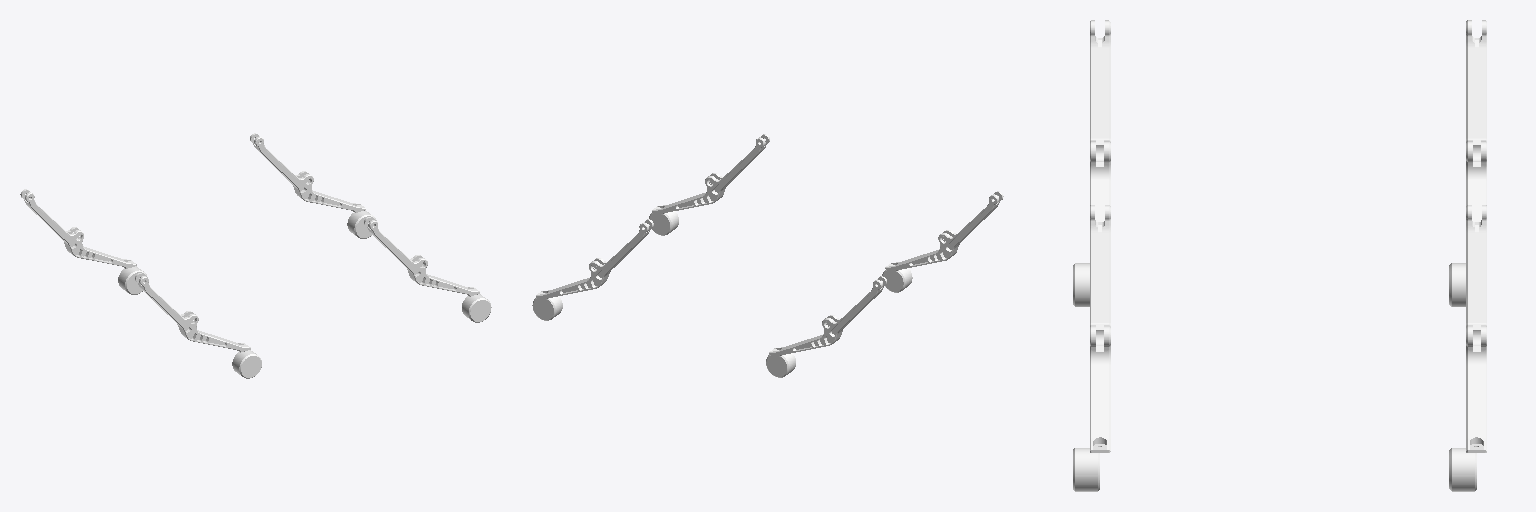
robot.urdf — spacebok:
<robot name="spacebok">
    <!-- Define materials for Rviz -->
    <material name="blue">
        <color rgba="0 0 0.8 1"/>
    </material>
    <material name="black">
        <color rgba="0 0 0 1"/>
    </material>
    <material name="white">
        <color rgba="1 1 1 1"/>
    </material>
    <material name="messing">
        <color rgba="0.8 0.5 0.2 1"/>
    </material>
	<link name="base_link">
        <visual>
            <geometry>
                <mesh filename="../meshes/body/body_edited_2.dae"
                      scale="0.001 0.001 0.001"/>
            </geometry>
            <material name="black"/>
            <origin rpy="0 0 0" xyz="0 0 0"/>
        </visual>
        <collision>
            <geometry>
                <box size="0.6 0.315 0.23"/>
            </geometry>
            <material name="black"/>
            <origin rpy="0 0 0" xyz="0 0 0.035"/>
        </collision>
    </link>
    <!-- Fixed joint to add dummy inertia link -->
    <joint name="base_to_base_inertia" type="fixed">
        <parent link="base_link"/>
        <child link="base_inertia"/>
        <origin rpy="0 0 0" xyz="0 0 0"/>
    </joint>
    <!-- Dummy inertia link, because KDL cannot have inertia on the base link -->
    <link name="base_inertia">
        <inertial>
            <mass value="18"/>
            <inertia ixx="0.3484" ixy="0.0" ixz="0.0" iyy="0.4166" iyz="0" izz="0.465"/>
        </inertial>
    </link>
    <link name="upper_leg_long_front_left">
        <visual>
            <geometry>
                <mesh filename="../meshes/leg/upper_leg_long_color.dae"
                      scale="0.001 0.001 0.001"/>
            </geometry>
            <material name="white"/>
            <origin rpy="0 0 0" xyz="0 0 0"/>
        </visual>
        <!--<collision>-->
            <!--<geometry>-->
                <!--<box size="0.25 0.02 0.03"/>-->
            <!--</geometry>-->
            <!--<origin rpy="0 0 0" xyz="-0.125 0 0"/>-->
        <!--</collision>-->
        <inertial>
                    <origin rpy="0 0 0" xyz="-0.082496 -0.025627 0.0"/>
                    <mass value="0.375"/>
                    <inertia ixx="0.00013376" iyy="0.003551" izz="0.003609" ixy="0.00014207" ixz="-6.9503185e-05" iyz="2.2789778e-05" />
                  </inertial>
                
    </link>
    <joint name="front_left_joint_1" type="revolute">
        <axis xyz="0 1 0"/>
        <limit effort="30" lower="-3.14" upper="3.14" velocity="1000"/>
        <dynamics damping="0.01" friction="0.45"/>
        <parent link="base_link"/>
        <child link="upper_leg_long_front_left"/>
        <origin rpy="0 -0.785398163397 0" xyz="0.2 0.1725 0"/>
    </joint>
    <link name="lower_leg_long_front_left">
        <visual>
            <material name="white"/>
            <geometry>
                <mesh filename="../meshes/leg/lower_leg_long_3.dae"
                     />
            </geometry>
            <origin rpy="1.5707963 3.141592 0" xyz="0 0.00 0"/>
        </visual>
        <collision>
            <geometry>
                <box size="0.225 0.03 0.01"/>
            </geometry>
            <origin rpy="0 0.03 0" xyz="-0.11 0 0.003"/>
        </collision>
        <inertial>
                    <origin rpy="0 0 0" xyz="-0.12084 -0.006102 0.0"/>
                    <mass value="0.23"/>
                    <inertia ixx="4.201e-05" iyy="0.0006585" izz="0.0006709" ixy="-1.6589e-05" ixz="1.8269915e-05" iyz="-4.52203e-07" />
                  </inertial>
                
    </link>
    <joint name="front_left_joint_2" type="revolute">
        <axis xyz="0 1 0"/>
        <limit effort="30" lower="-3.14" upper="3.14" velocity="1000"/>
        <dynamics damping="0.01" friction="0.45"/>
        <parent link="upper_leg_long_front_left"/>
        <child link="lower_leg_long_front_left"/>
        <origin rpy="0 -1.57079632679 0" xyz="-0.25 0 0"/>
    </joint>
    <link name="foot_front_left">
        <visual>
            <material name="white"/>
            <geometry>
                <mesh filename="../meshes/leg/foot_cylinder.dae"
                      />
            </geometry>
            <origin rpy="1.5707963 0 0" xyz="0 0.0 0"/>
        </visual>
        <collision>
            <geometry>
                <sphere radius="0.02"/>
            </geometry>
            <origin rpy="0 0 0" xyz="0 0 0"/>
        </collision>
        <inertial>
                    <origin rpy="0 0 0" xyz="0.0 0.0 0.0"/>
                    <mass value="0.05"/>
                    <inertia ixx="2.904e-06" iyy="2.904e-06" izz="3.611e-06" ixy="0.0" ixz="0.0" iyz="0.0" />
                  </inertial>
                
    </link>
    <joint name="front_left_joint_3" type="fixed">
        <parent link="lower_leg_long_front_left"/>
        <child link="foot_front_left"/>
        <origin rpy="0 0 0" xyz="-0.25 0 -0.0"/>
    </joint>


    <link name="upper_leg_long_front_right">
        <visual>
            <geometry>
                <mesh filename="../meshes/leg/upper_leg_long_color.dae"
                      scale="0.001 0.001 0.001"/>
            </geometry>
            <material name="white"/>
            <origin rpy="0 0 0" xyz="0 0 0"/>
        </visual>
        <!--<collision>-->
            <!--<geometry>-->
                <!--<box size="0.25 0.02 0.03"/>-->
            <!--</geometry>-->
            <!--<origin rpy="0 0 0" xyz="-0.125 0 0"/>-->
        <!--</collision>-->
        <inertial>
                    <origin rpy="0 0 0" xyz="-0.082496 -0.025627 0.0"/>
                    <mass value="0.375"/>
                    <inertia ixx="0.00013376" iyy="0.003551" izz="0.003609" ixy="0.00014207" ixz="-6.9503185e-05" iyz="2.2789778e-05" />
                  </inertial>
                
    </link>
    <joint name="front_right_joint_1" type="revolute">
        <axis xyz="0 1 0"/>
        <limit effort="30" lower="-3.14" upper="3.14" velocity="1000"/>
        <dynamics damping="0.01" friction="0.45"/>
        <parent link="base_link"/>
        <child link="upper_leg_long_front_right"/>
        <origin rpy="0 -0.785398163397 0" xyz="0.2 -0.1725 0"/>
    </joint>
    <link name="lower_leg_long_front_right">
        <visual>
            <material name="white"/>
            <geometry>
                <mesh filename="../meshes/leg/lower_leg_long_3.dae"
                     />
            </geometry>
            <origin rpy="1.5707963 3.141592 0" xyz="0 0.00 0"/>
        </visual>
        <collision>
            <geometry>
                <box size="0.225 0.03 0.01"/>
            </geometry>
            <origin rpy="0 0.03 0" xyz="-0.11 0 0.003"/>
        </collision>
        <inertial>
                    <origin rpy="0 0 0" xyz="-0.12084 -0.006102 0.0"/>
                    <mass value="0.23"/>
                    <inertia ixx="4.201e-05" iyy="0.0006585" izz="0.0006709" ixy="-1.6589e-05" ixz="1.8269915e-05" iyz="-4.52203e-07" />
                  </inertial>
                
    </link>
    <joint name="front_right_joint_2" type="revolute">
        <axis xyz="0 1 0"/>
        <limit effort="30" lower="-3.14" upper="3.14" velocity="1000"/>
        <dynamics damping="0.01" friction="0.45"/>
        <parent link="upper_leg_long_front_right"/>
        <child link="lower_leg_long_front_right"/>
        <origin rpy="0 -1.57079632679 0" xyz="-0.25 0 0"/>
    </joint>
    <link name="foot_front_right">
        <visual>
            <material name="white"/>
            <geometry>
                <mesh filename="../meshes/leg/foot_cylinder.dae"
                      />
            </geometry>
            <origin rpy="1.5707963 0 0" xyz="0 0.0 0"/>
        </visual>
        <collision>
            <geometry>
                <sphere radius="0.02"/>
            </geometry>
            <origin rpy="0 0 0" xyz="0 0 0"/>
        </collision>
        <inertial>
                    <origin rpy="0 0 0" xyz="0.0 0.0 0.0"/>
                    <mass value="0.05"/>
                    <inertia ixx="2.904e-06" iyy="2.904e-06" izz="3.611e-06" ixy="0.0" ixz="0.0" iyz="0.0" />
                  </inertial>
                
    </link>
    <joint name="front_right_joint_3" type="fixed">
        <parent link="lower_leg_long_front_right"/>
        <child link="foot_front_right"/>
        <origin rpy="0 0 0" xyz="-0.25 0 -0.0"/>
    </joint>


    <link name="upper_leg_long_hind_left">
        <visual>
            <geometry>
                <mesh filename="../meshes/leg/upper_leg_long_color.dae"
                      scale="0.001 0.001 0.001"/>
            </geometry>
            <material name="white"/>
            <origin rpy="0 0 0" xyz="0 0 0"/>
        </visual>
        <!--<collision>-->
            <!--<geometry>-->
                <!--<box size="0.25 0.02 0.03"/>-->
            <!--</geometry>-->
            <!--<origin rpy="0 0 0" xyz="-0.125 0 0"/>-->
        <!--</collision>-->
        <inertial>
                    <origin rpy="0 0 0" xyz="-0.082496 -0.025627 0.0"/>
                    <mass value="0.375"/>
                    <inertia ixx="0.00013376" iyy="0.003551" izz="0.003609" ixy="0.00014207" ixz="-6.9503185e-05" iyz="2.2789778e-05" />
                  </inertial>
                
    </link>
    <joint name="hind_left_joint_1" type="revolute">
        <axis xyz="0 1 0"/>
        <limit effort="30" lower="-3.14" upper="3.14" velocity="1000"/>
        <dynamics damping="0.01" friction="0.45"/>
        <parent link="base_link"/>
        <child link="upper_leg_long_hind_left"/>
        <origin rpy="0 -0.785398163397 0" xyz="-0.2 0.1725 0"/>
    </joint>
    <link name="lower_leg_long_hind_left">
        <visual>
            <material name="white"/>
            <geometry>
                <mesh filename="../meshes/leg/lower_leg_long_3.dae"
                     />
            </geometry>
            <origin rpy="1.5707963 3.141592 0" xyz="0 0.00 0"/>
        </visual>
        <collision>
            <geometry>
                <box size="0.225 0.03 0.01"/>
            </geometry>
            <origin rpy="0 0.03 0" xyz="-0.11 0 0.003"/>
        </collision>
        <inertial>
                    <origin rpy="0 0 0" xyz="-0.12084 -0.006102 0.0"/>
                    <mass value="0.23"/>
                    <inertia ixx="4.201e-05" iyy="0.0006585" izz="0.0006709" ixy="-1.6589e-05" ixz="1.8269915e-05" iyz="-4.52203e-07" />
                  </inertial>
                
    </link>
    <joint name="hind_left_joint_2" type="revolute">
        <axis xyz="0 1 0"/>
        <limit effort="30" lower="-3.14" upper="3.14" velocity="1000"/>
        <dynamics damping="0.01" friction="0.45"/>
        <parent link="upper_leg_long_hind_left"/>
        <child link="lower_leg_long_hind_left"/>
        <origin rpy="0 -1.57079632679 0" xyz="-0.25 0 0"/>
    </joint>
    <link name="foot_hind_left">
        <visual>
            <material name="white"/>
            <geometry>
                <mesh filename="../meshes/leg/foot_cylinder.dae"
                      />
            </geometry>
            <origin rpy="1.5707963 0 0" xyz="0 0.0 0"/>
        </visual>
        <collision>
            <geometry>
                <sphere radius="0.02"/>
            </geometry>
            <origin rpy="0 0 0" xyz="0 0 0"/>
        </collision>
        <inertial>
                    <origin rpy="0 0 0" xyz="0.0 0.0 0.0"/>
                    <mass value="0.05"/>
                    <inertia ixx="2.904e-06" iyy="2.904e-06" izz="3.611e-06" ixy="0.0" ixz="0.0" iyz="0.0" />
                  </inertial>
                
    </link>
    <joint name="hind_left_joint_3" type="fixed">
        <parent link="lower_leg_long_hind_left"/>
        <child link="foot_hind_left"/>
        <origin rpy="0 0 0" xyz="-0.25 0 -0.0"/>
    </joint>


    <link name="upper_leg_long_hind_right">
        <visual>
            <geometry>
                <mesh filename="../meshes/leg/upper_leg_long_color.dae"
                      scale="0.001 0.001 0.001"/>
            </geometry>
            <material name="white"/>
            <origin rpy="0 0 0" xyz="0 0 0"/>
        </visual>
        <!--<collision>-->
            <!--<geometry>-->
                <!--<box size="0.25 0.02 0.03"/>-->
            <!--</geometry>-->
            <!--<origin rpy="0 0 0" xyz="-0.125 0 0"/>-->
        <!--</collision>-->
        <inertial>
                    <origin rpy="0 0 0" xyz="-0.082496 -0.025627 0.0"/>
                    <mass value="0.375"/>
                    <inertia ixx="0.00013376" iyy="0.003551" izz="0.003609" ixy="0.00014207" ixz="-6.9503185e-05" iyz="2.2789778e-05" />
                  </inertial>
                
    </link>
    <joint name="hind_right_joint_1" type="revolute">
        <axis xyz="0 1 0"/>
        <limit effort="30" lower="-3.14" upper="3.14" velocity="1000"/>
        <dynamics damping="0.01" friction="0.45"/>
        <parent link="base_link"/>
        <child link="upper_leg_long_hind_right"/>
        <origin rpy="0 -0.785398163397 0" xyz="-0.2 -0.1725 0"/>
    </joint>
    <link name="lower_leg_long_hind_right">
        <visual>
            <material name="white"/>
            <geometry>
                <mesh filename="../meshes/leg/lower_leg_long_3.dae"
                     />
            </geometry>
            <origin rpy="1.5707963 3.141592 0" xyz="0 0.00 0"/>
        </visual>
        <collision>
            <geometry>
                <box size="0.225 0.03 0.01"/>
            </geometry>
            <origin rpy="0 0.03 0" xyz="-0.11 0 0.003"/>
        </collision>
        <inertial>
                    <origin rpy="0 0 0" xyz="-0.12084 -0.006102 0.0"/>
                    <mass value="0.23"/>
                    <inertia ixx="4.201e-05" iyy="0.0006585" izz="0.0006709" ixy="-1.6589e-05" ixz="1.8269915e-05" iyz="-4.52203e-07" />
                  </inertial>
                
    </link>
    <joint name="hind_right_joint_2" type="revolute">
        <axis xyz="0 1 0"/>
        <limit effort="30" lower="-3.14" upper="3.14" velocity="1000"/>
        <dynamics damping="0.01" friction="0.45"/>
        <parent link="upper_leg_long_hind_right"/>
        <child link="lower_leg_long_hind_right"/>
        <origin rpy="0 -1.57079632679 0" xyz="-0.25 0 0"/>
    </joint>
    <link name="foot_hind_right">
        <visual>
            <material name="white"/>
            <geometry>
                <mesh filename="../meshes/leg/foot_cylinder.dae"
                      />
            </geometry>
            <origin rpy="1.5707963 0 0" xyz="0 0.0 0"/>
        </visual>
        <collision>
            <geometry>
                <sphere radius="0.02"/>
            </geometry>
            <origin rpy="0 0 0" xyz="0 0 0"/>
        </collision>
        <inertial>
                    <origin rpy="0 0 0" xyz="0.0 0.0 0.0"/>
                    <mass value="0.05"/>
                    <inertia ixx="2.904e-06" iyy="2.904e-06" izz="3.611e-06" ixy="0.0" ixz="0.0" iyz="0.0" />
                  </inertial>
                
    </link>
    <joint name="hind_right_joint_3" type="fixed">
        <parent link="lower_leg_long_hind_right"/>
        <child link="foot_hind_right"/>
        <origin rpy="0 0 0" xyz="-0.25 0 -0.0"/>
    </joint>


</robot>

--- Facts derived from the render (not from the file) ---
The picture shows the robot from 3 angles, left to right: view 1: azimuth 30°, elevation 25°; view 2: azimuth 150°, elevation 25°; view 3: azimuth 270°, elevation 25°; orthographic projection.
Model spacebok with 14 links and 13 joints (8 revolute, 5 fixed), rooted at base_link, posed every joint at zero.
Visible links, largest first — view 1: lower_leg_long_hind_right, lower_leg_long_front_left, lower_leg_long_front_right, lower_leg_long_hind_left, foot_front_right, foot_hind_right; view 2: lower_leg_long_hind_right, lower_leg_long_front_left, lower_leg_long_front_right, lower_leg_long_hind_left, foot_hind_left, foot_front_left, foot_hind_right, foot_front_right; view 3: lower_leg_long_front_left, lower_leg_long_front_right, lower_leg_long_hind_left, lower_leg_long_hind_right, foot_front_left, foot_front_right, foot_hind_left, foot_hind_right.
Link boxes in pixels (x1=…): lower_leg_long_hind_right: x1=135, y1=273, x2=250, y2=352; lower_leg_long_front_left: x1=250, y1=133, x2=365, y2=212; lower_leg_long_front_right: x1=364, y1=217, x2=479, y2=296; lower_leg_long_hind_left: x1=20, y1=189, x2=136, y2=268; foot_front_right: x1=462, y1=294, x2=491, y2=322; foot_hind_right: x1=232, y1=350, x2=261, y2=378; lower_leg_long_hind_right: x1=885, y1=191, x2=1003, y2=271; lower_leg_long_front_left: x1=536, y1=219, x2=653, y2=299; lower_leg_long_front_right: x1=652, y1=134, x2=769, y2=214; lower_leg_long_hind_left: x1=769, y1=276, x2=886, y2=356; foot_hind_left: x1=766, y1=353, x2=795, y2=377; foot_front_left: x1=532, y1=296, x2=562, y2=320; foot_hind_right: x1=882, y1=268, x2=912, y2=292; foot_front_right: x1=649, y1=211, x2=678, y2=235; lower_leg_long_front_left: x1=1466, y1=205, x2=1486, y2=452; lower_leg_long_front_right: x1=1090, y1=205, x2=1110, y2=452; lower_leg_long_hind_left: x1=1466, y1=20, x2=1486, y2=221; lower_leg_long_hind_right: x1=1090, y1=20, x2=1110, y2=221; foot_front_left: x1=1449, y1=448, x2=1476, y2=491; foot_front_right: x1=1073, y1=448, x2=1099, y2=491; foot_hind_left: x1=1449, y1=263, x2=1465, y2=306; foot_hind_right: x1=1073, y1=263, x2=1089, y2=306.
Size in the robot's own frame: 0.6043 by 0.3795 by 0.2043 metres.
8 mesh visuals loaded from 4 distinct referenced files (2 Collada DAE); not drawn: 5 (reference not matched to a file when rendering).